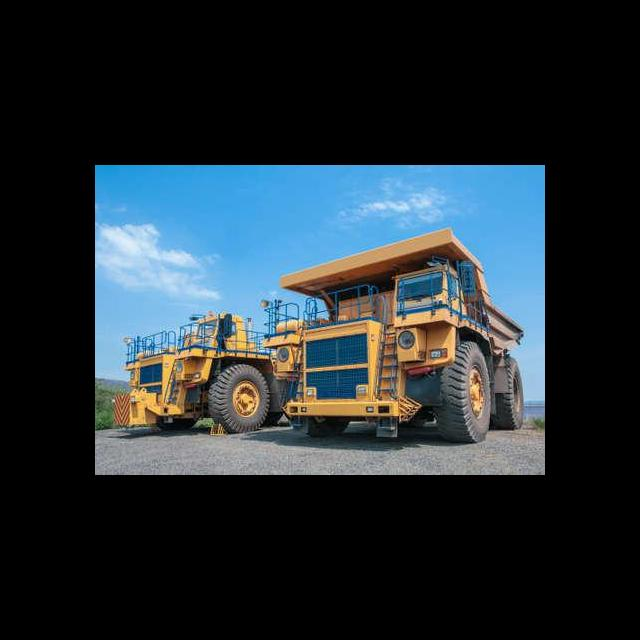dump truck: (265, 227, 527, 444), (122, 309, 287, 436)
